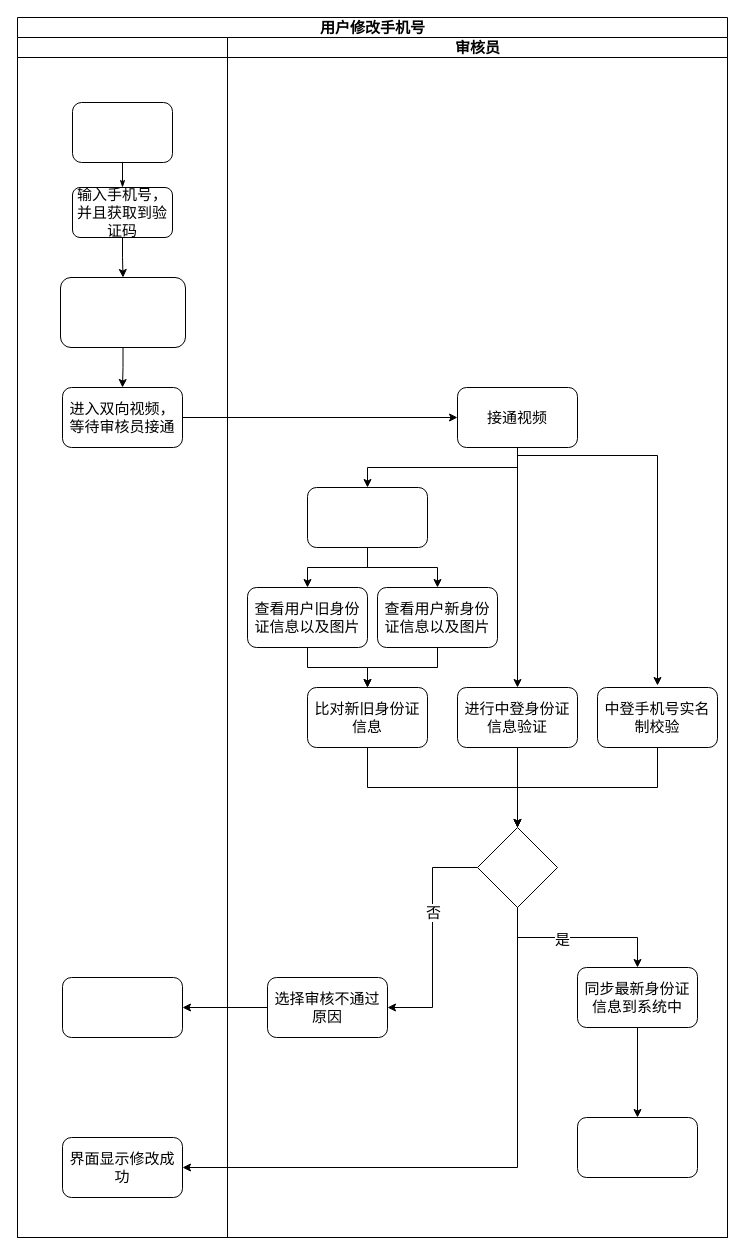
Some shapes in this 745 by 1255 pixel diagram are drawn without their labels. Each missing label, with the box of its shape:
同步中登: (576, 1116, 698, 1178)
审核是否通过: (476, 826, 558, 908)
查看用户的基础信息: (306, 486, 428, 548)
用户: (16, 36, 228, 1238)
用户上传本人身份证，系统自动ocr识别身份证信息: (60, 276, 186, 348)
用户进入修改手机号页面: (72, 102, 172, 162)
界面显示审核不通过原因: (62, 976, 182, 1038)
